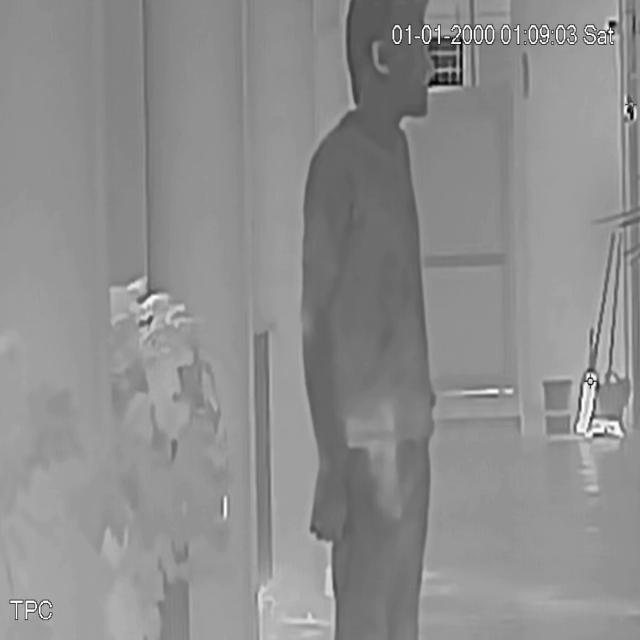Weapon: (336, 384, 426, 536)
